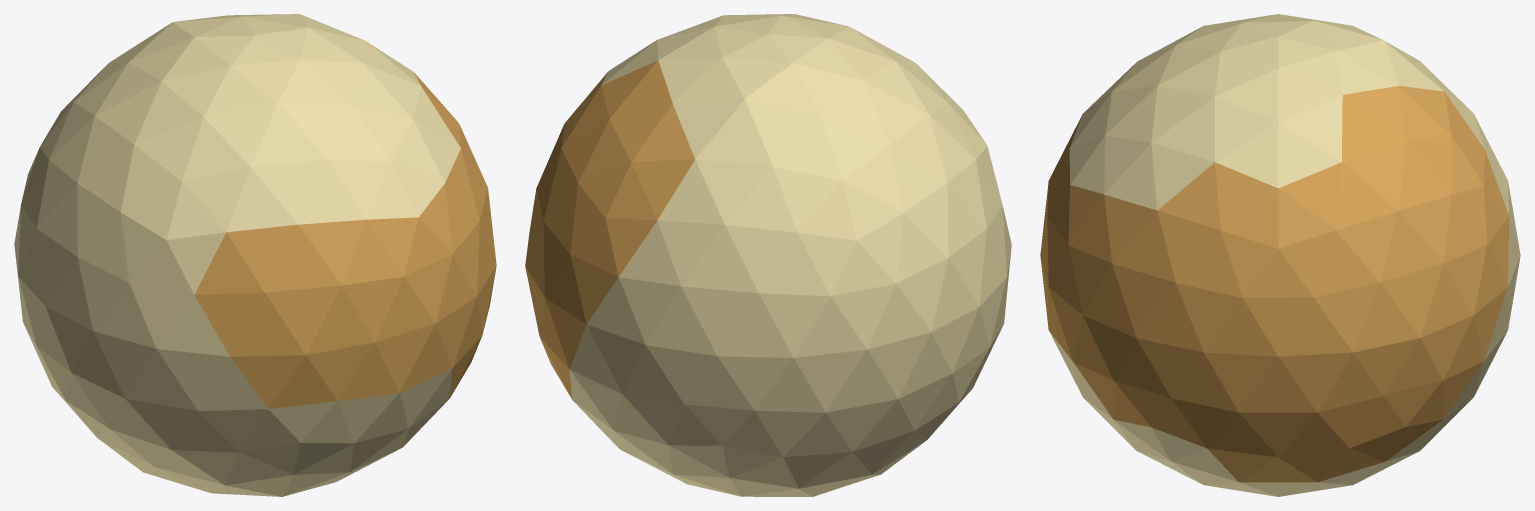
The model's file is europa.glb.
The picture shows the model from 3 angles, left to right: view 1: azimuth 30°, elevation 25°; view 2: azimuth 150°, elevation 25°; view 3: azimuth 270°, elevation 25°; orthographic projection.
Visible parts, largest first — view 1: Icosphere; view 2: Icosphere; view 3: Icosphere.
Boxes of the visible parts, x1,y1,x2,y2 form: Icosphere: (14,14,496,496); Icosphere: (525,14,1011,496); Icosphere: (1040,14,1520,496).
Size of the model in its own units: 0.3628 by 0.3643 by 0.3621.
